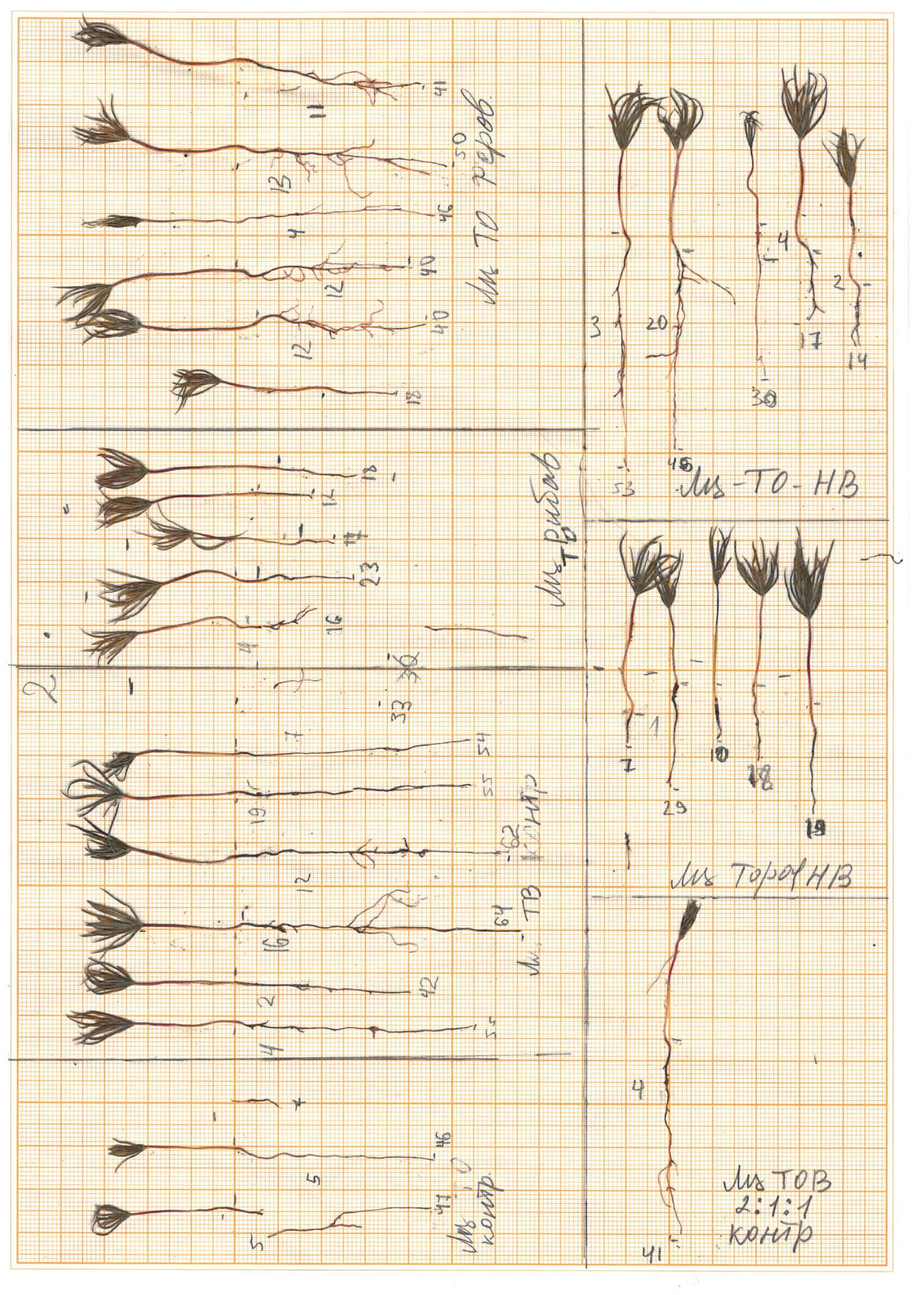Seeding: (68, 93, 449, 199), (66, 13, 421, 108), (75, 885, 523, 959), (60, 754, 474, 833), (64, 815, 509, 869), (52, 248, 407, 314), (656, 90, 718, 456), (597, 77, 653, 472), (65, 1004, 478, 1053), (88, 1194, 432, 1252), (102, 732, 470, 782), (652, 896, 703, 1241), (780, 523, 836, 815), (80, 954, 411, 1003), (65, 307, 428, 350), (80, 198, 439, 237), (104, 1132, 435, 1174), (75, 608, 322, 664), (102, 564, 351, 619), (777, 63, 828, 321), (91, 442, 363, 490), (820, 124, 878, 348), (162, 363, 400, 417), (731, 103, 774, 383), (145, 502, 340, 559), (733, 532, 780, 764), (615, 534, 662, 754), (653, 554, 690, 793), (94, 491, 323, 525), (704, 525, 735, 745)
